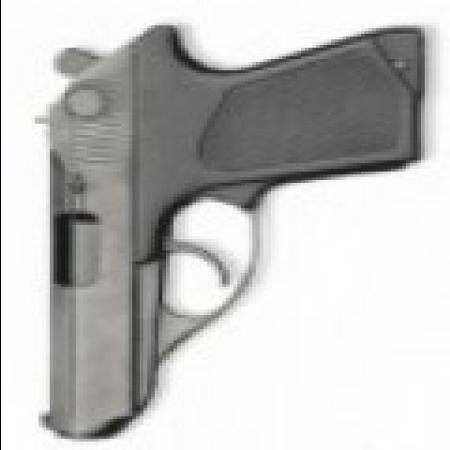Pistol: (30, 17, 420, 439)
